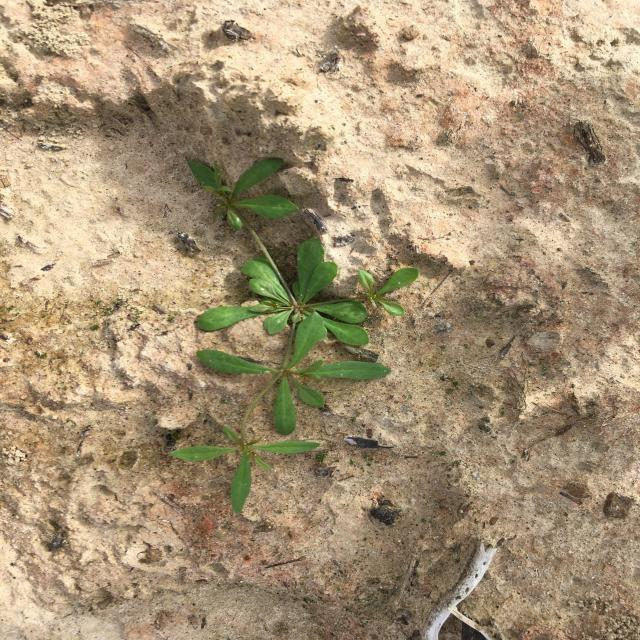Carpetweed: (170, 158, 420, 514)
